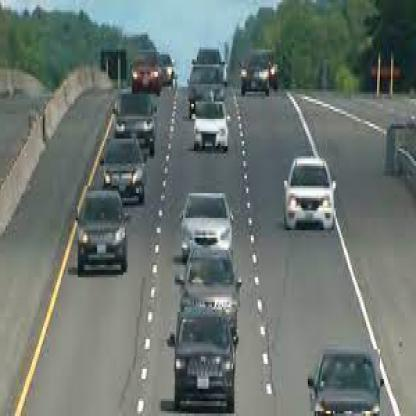car: (175, 313, 236, 415), (307, 350, 381, 415), (78, 187, 125, 283), (172, 251, 242, 311), (284, 157, 336, 234), (181, 194, 233, 266), (113, 90, 158, 145), (105, 140, 151, 189), (195, 103, 230, 150), (189, 65, 229, 105), (132, 53, 161, 98), (241, 58, 270, 95)
